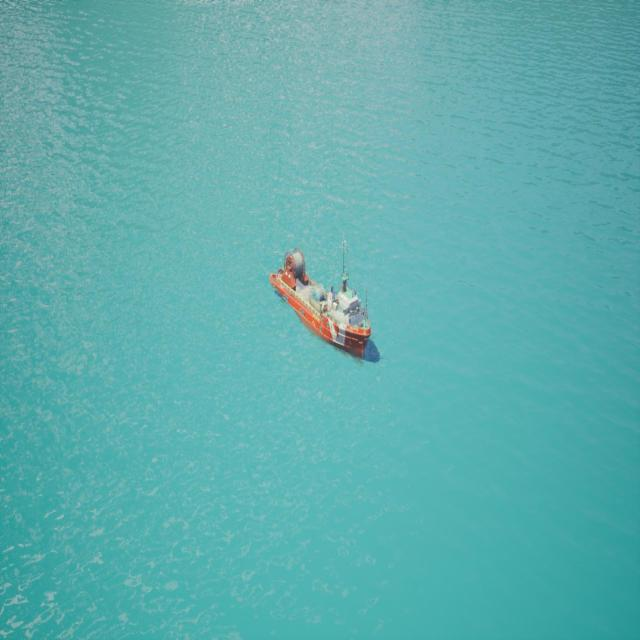tug boat: (270, 253, 377, 367)
